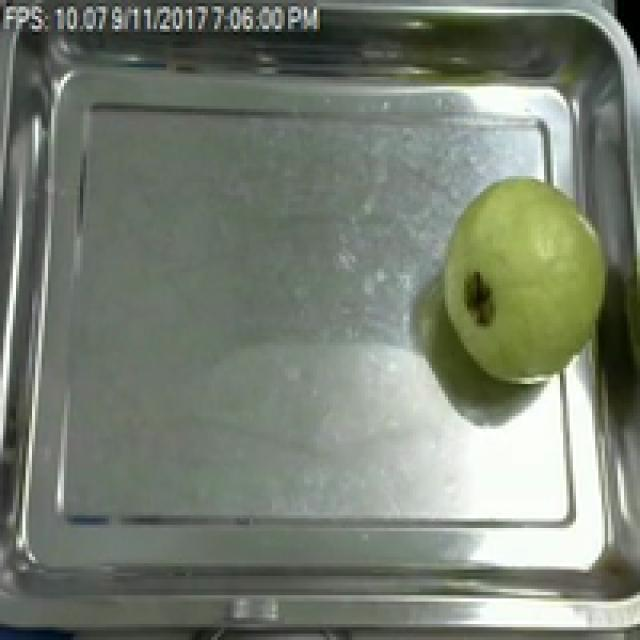Fruit: (429, 166, 621, 397)
